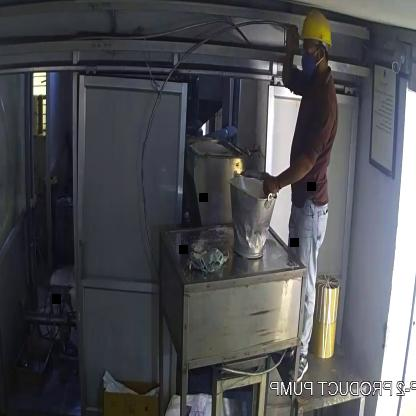helmet: (297, 7, 334, 53)
